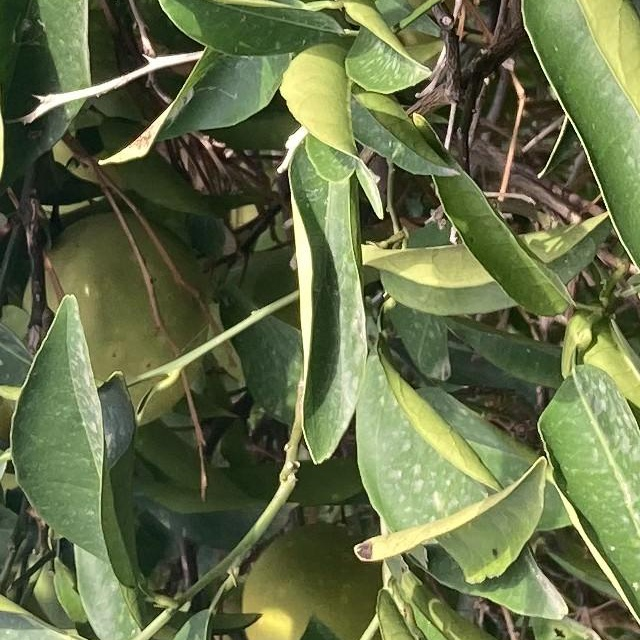orange: (8, 197, 220, 431), (240, 518, 412, 640)
